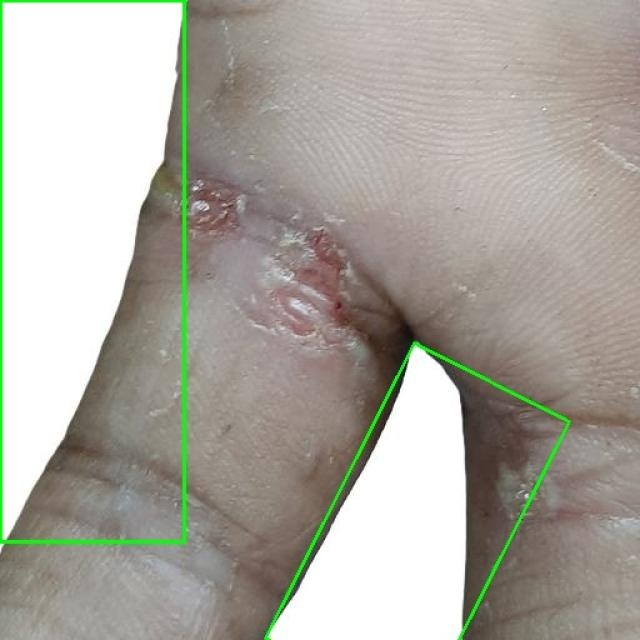Scabies: (0, 0, 184, 541), (265, 343, 570, 640)
